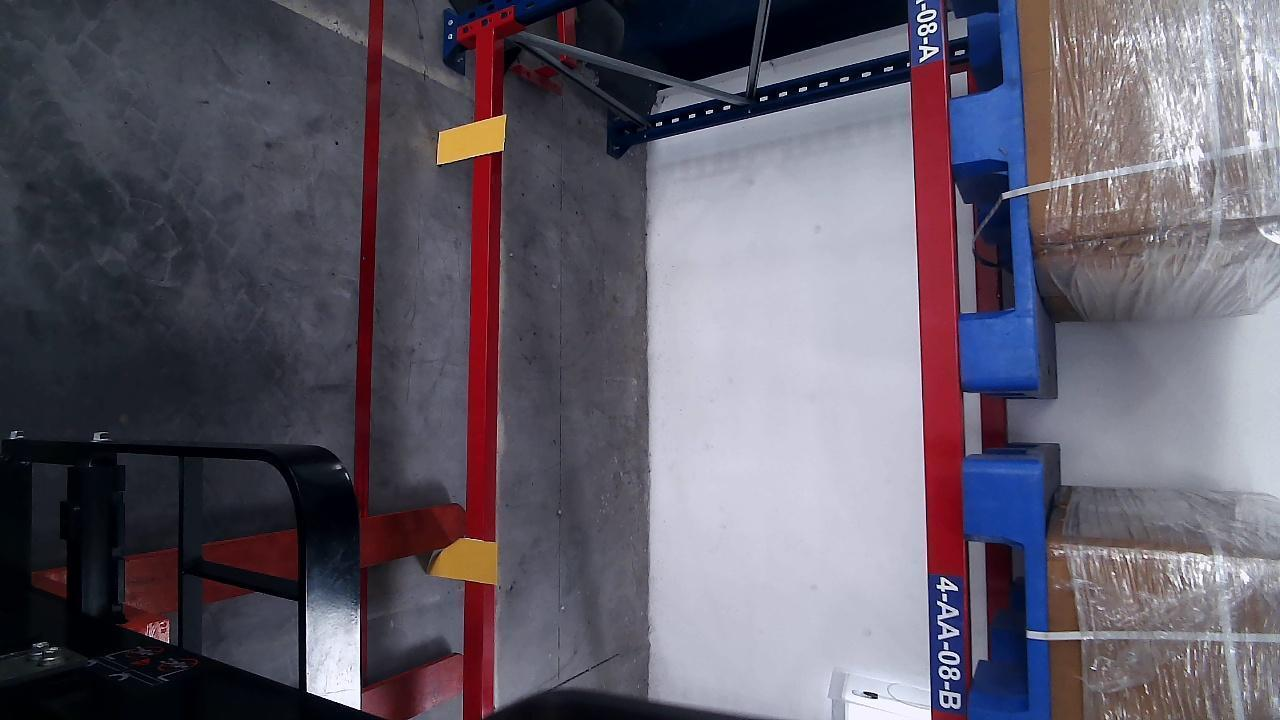red_line: (351, 1, 387, 515)
